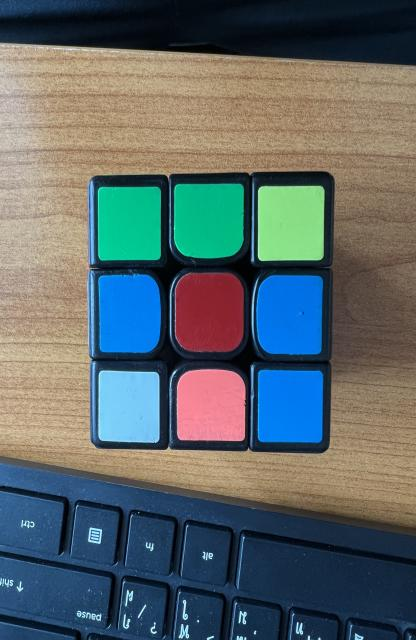Blue: (257, 275, 323, 355), (99, 274, 161, 352), (258, 370, 324, 442)
Green: (174, 184, 244, 259), (98, 186, 161, 260)
Orange: (177, 369, 246, 441)
Red: (174, 272, 244, 351)
White: (99, 370, 159, 442)
Yellow: (258, 186, 325, 261)
